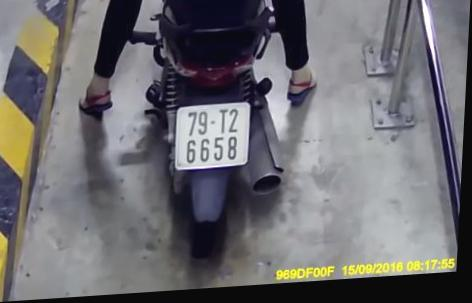License_Plate: (166, 99, 255, 175)
